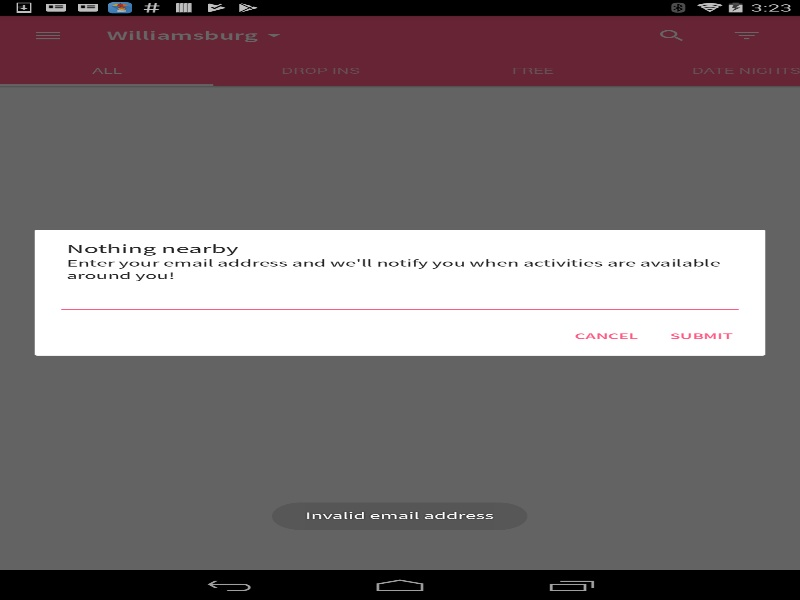Button: (558, 319, 654, 353), (654, 319, 749, 353)
Input: (56, 286, 744, 314)
